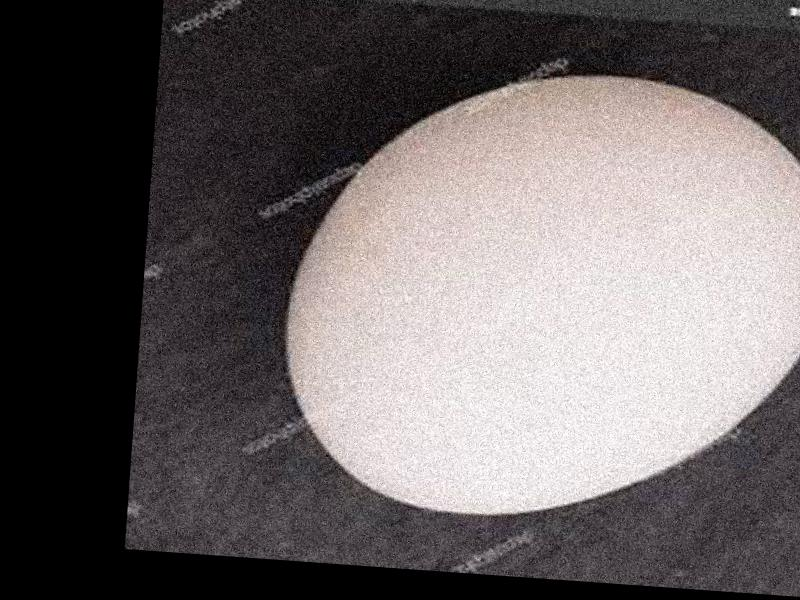Eggs: (275, 53, 800, 534)
